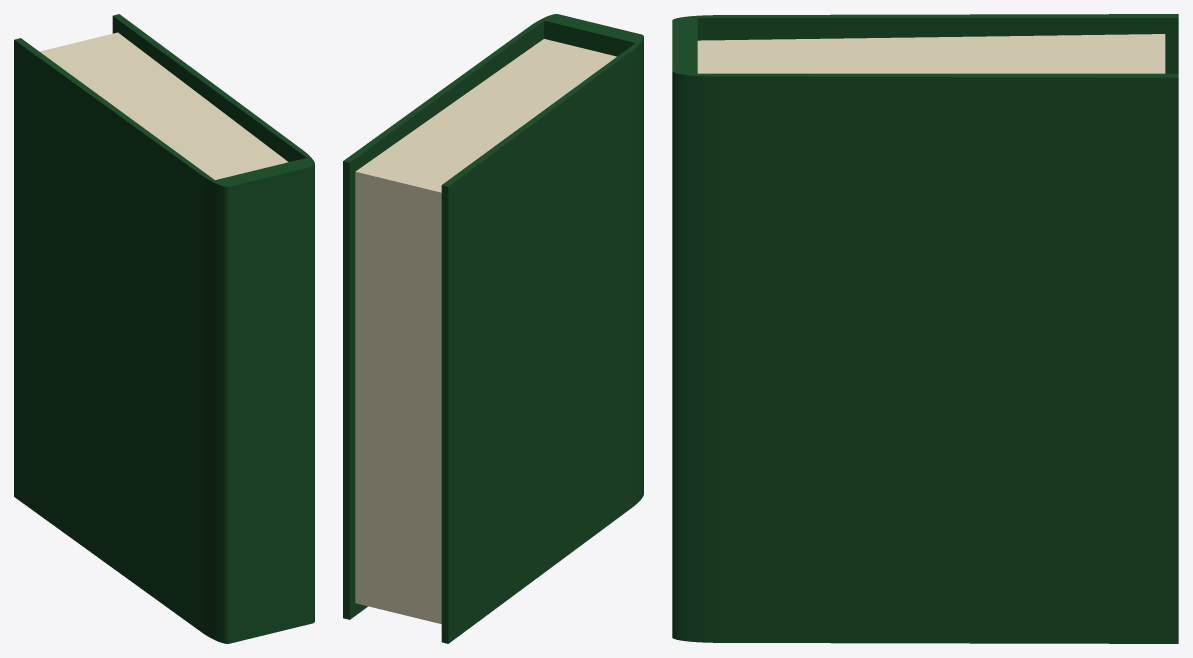
File: Book 1.fbx
3 renders of one model, left to right at view 1: azimuth 30°, elevation 25°; view 2: azimuth 150°, elevation 25°; view 3: azimuth 270°, elevation 25°, orthographic. The views are drawn at different scales.
Visible parts, largest first — view 1: Cube; view 2: Cube; view 3: Cube.
Boxes of the visible parts, x1,y1,x2,y2 form: Cube: (14, 14, 314, 643); Cube: (343, 14, 643, 643); Cube: (672, 14, 1178, 643).
Size of the model in its own units: 34.04 by 141 by 114.
